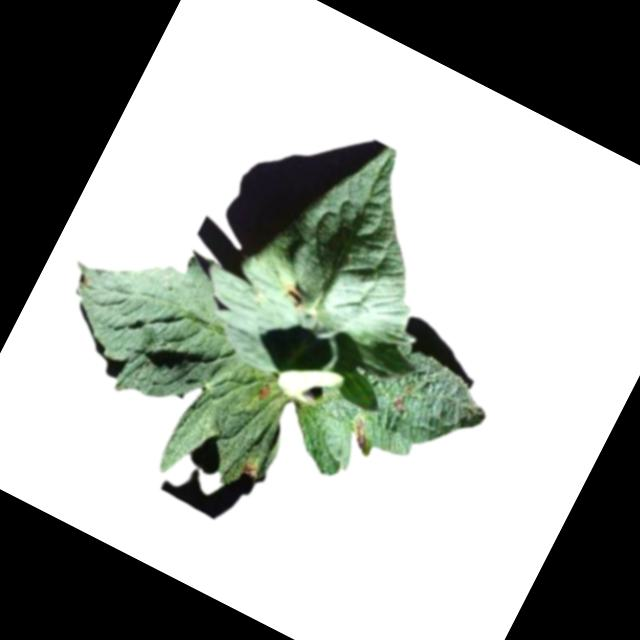Early_blight: (343, 415, 379, 452), (278, 279, 311, 310), (238, 458, 260, 481), (254, 380, 275, 404), (391, 395, 410, 414)
